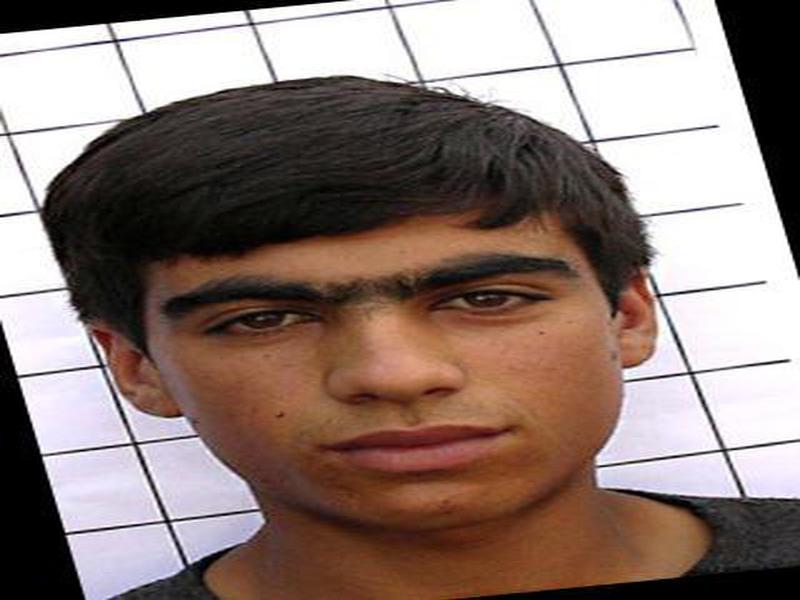without_mask: (131, 204, 625, 534)
